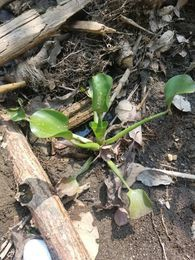water_hyacinth: (15, 73, 194, 216)
